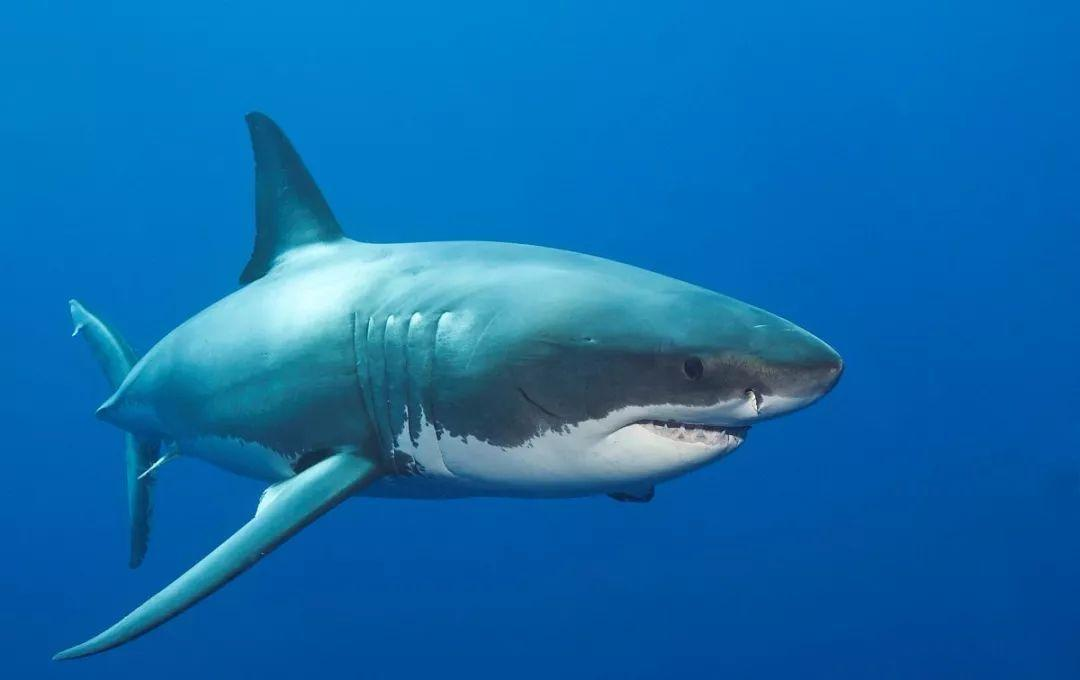fish: (53, 110, 845, 665)
